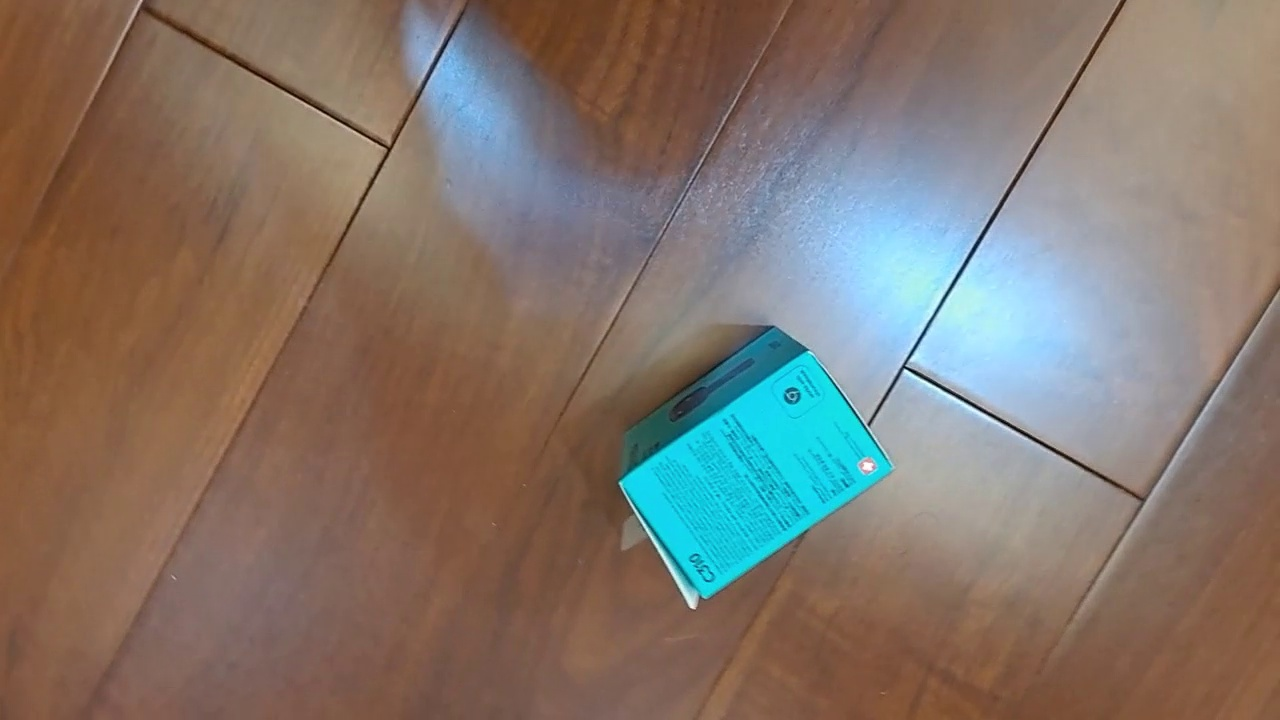webcam: (616, 325, 896, 611)
